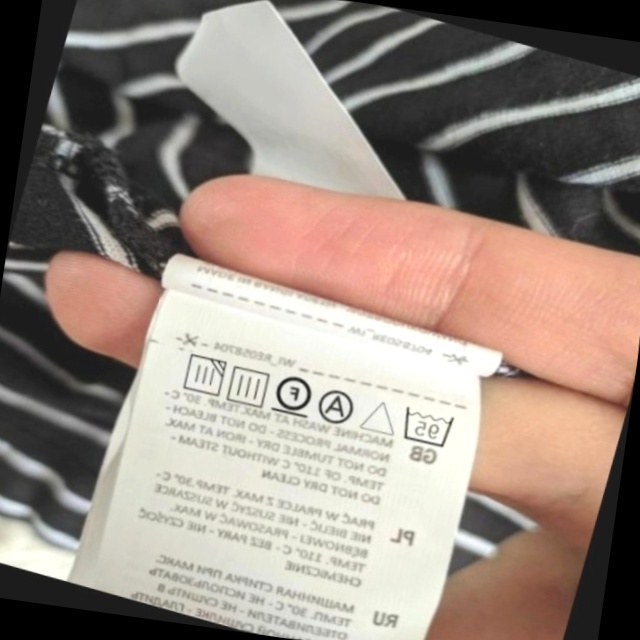95C: (392, 397, 462, 456)
bleach: (356, 389, 405, 443)
drip_dry: (219, 357, 278, 414)
drip_dry_in_shade: (172, 345, 232, 405)
dry_clean: (312, 382, 363, 432)
dry_clean_petrol_only: (266, 364, 321, 423)
